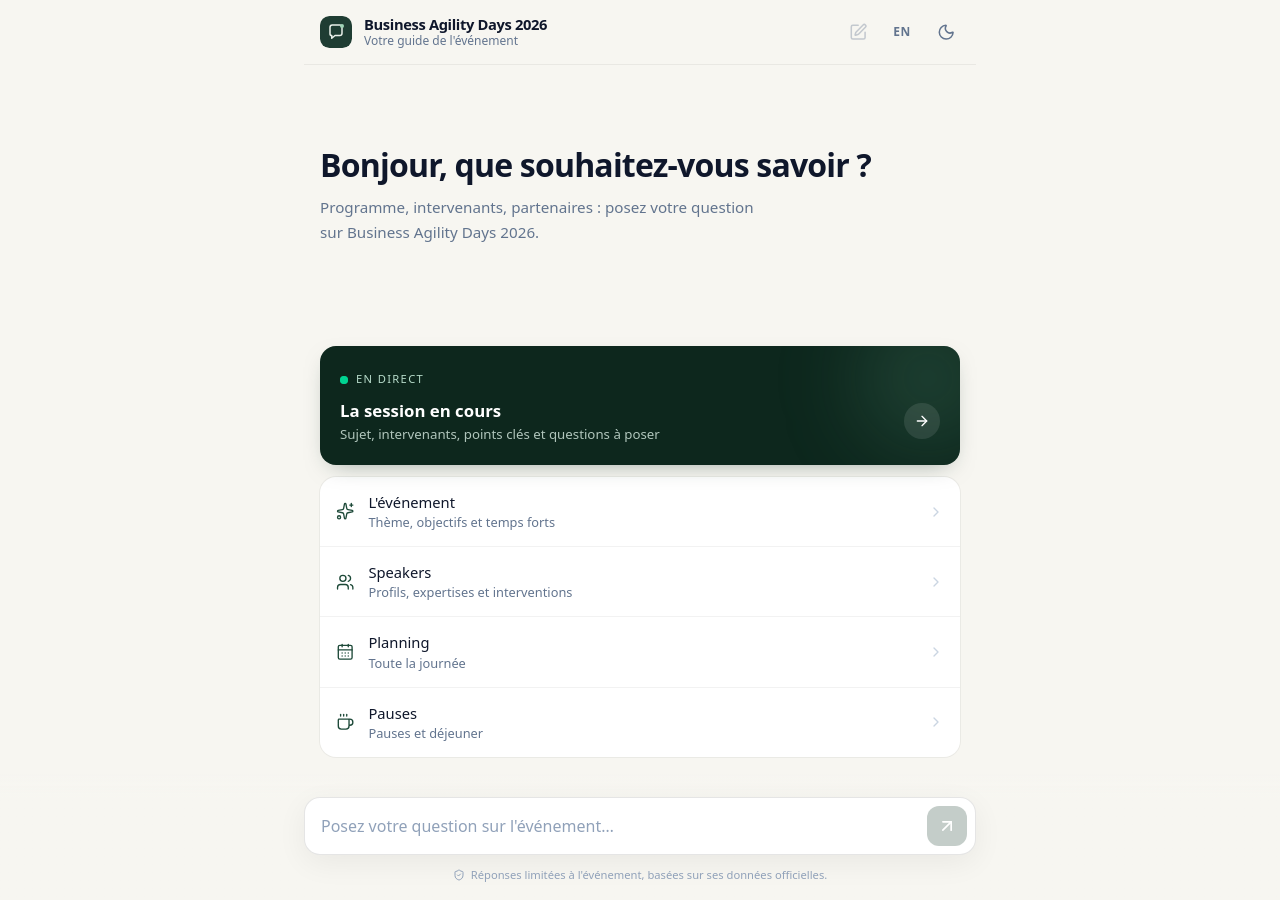
Test case: App › opens the speaker profile dialog and asks about the speaker
The image size is (1280, 900).
Click the button "Speakers Profils, expertises et interventions": coordinates (400, 572) [320,547,960,616]
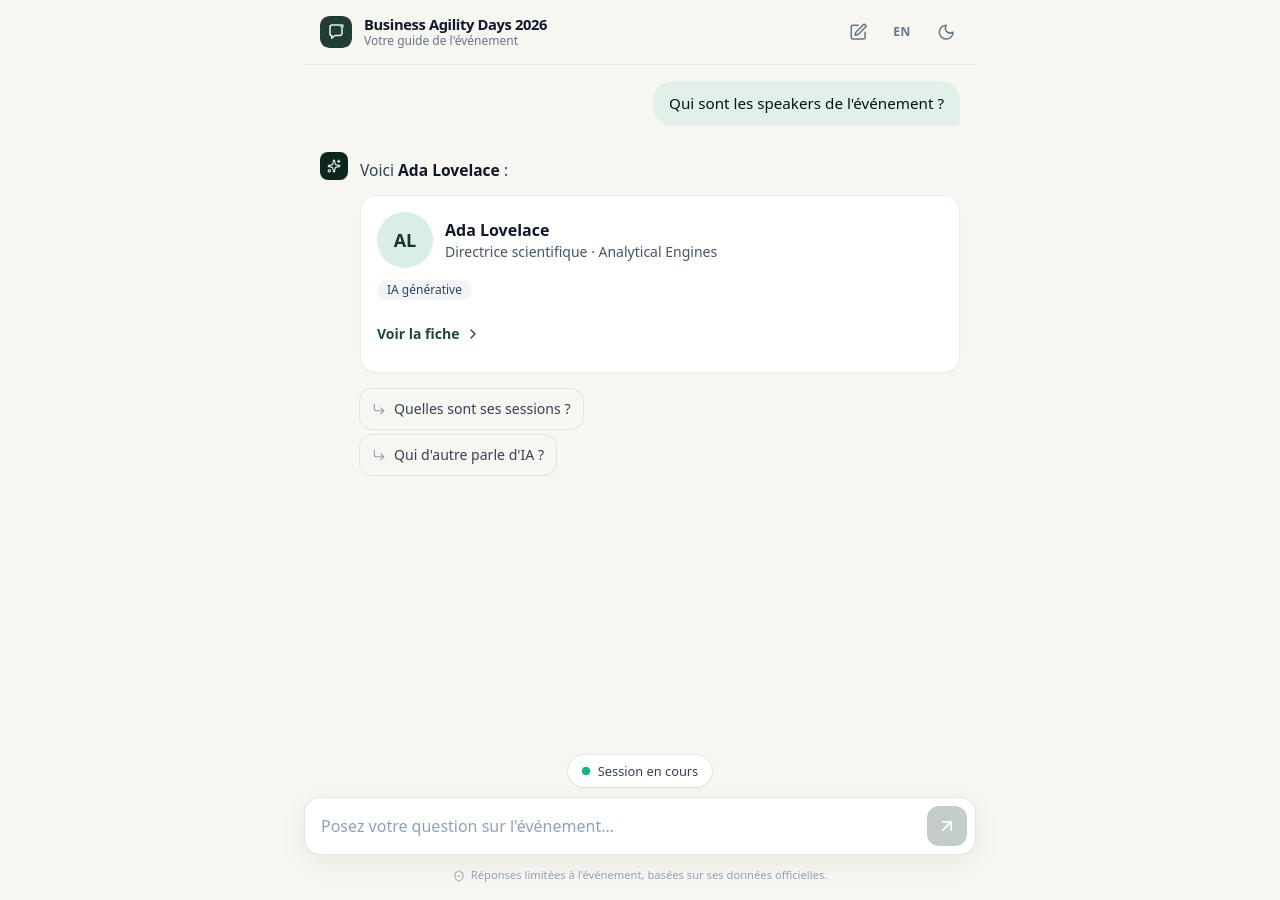
Click the button with aria-label "Voir la fiche de Ada Lovelace": coordinates (429, 334) [365,312,494,356]
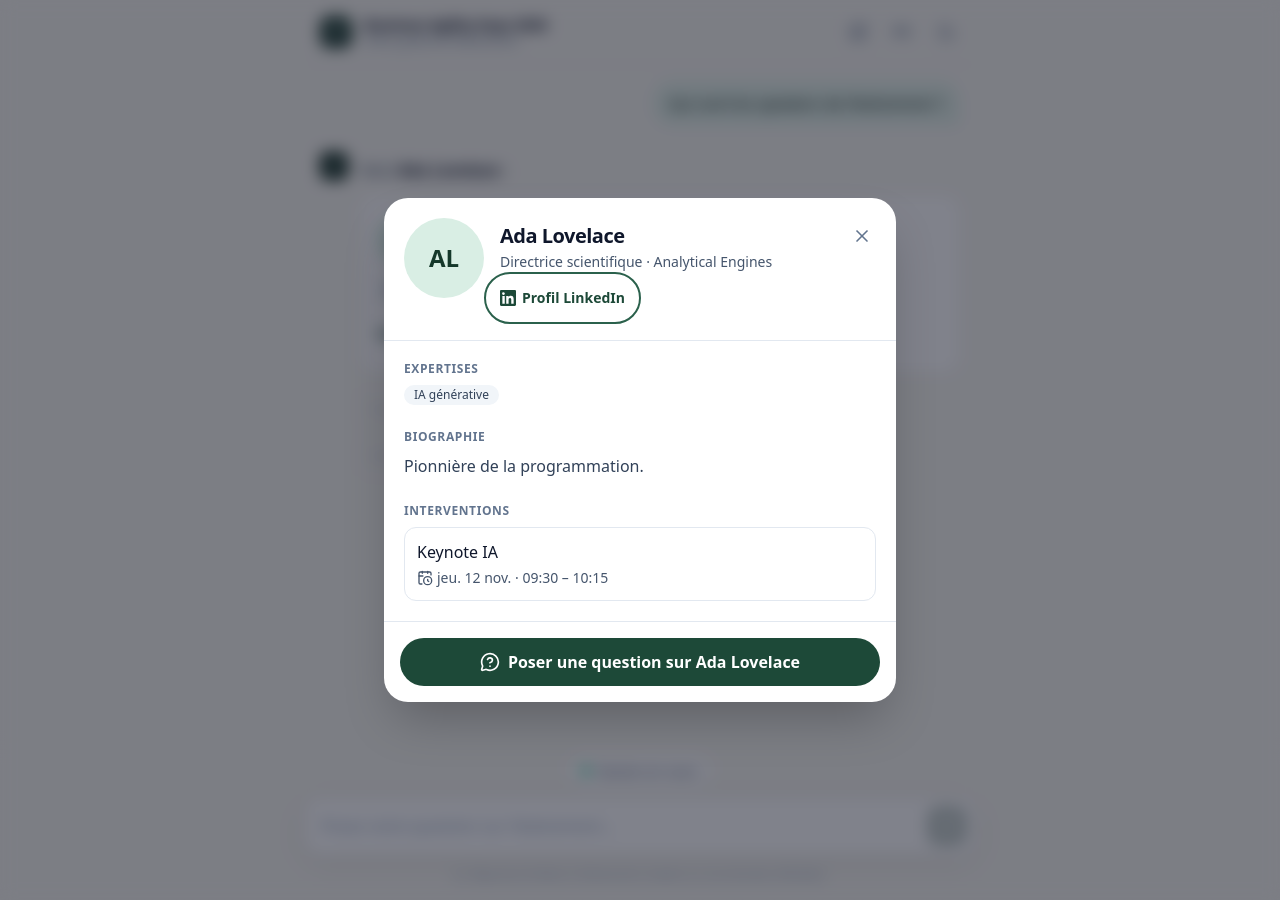
Check: the text "Pionnière de la programmation." is shown, box [404,455,644,477]
Click the button "Poser une question sur Ada Lovelace": coordinates (640, 662) [400,638,880,686]
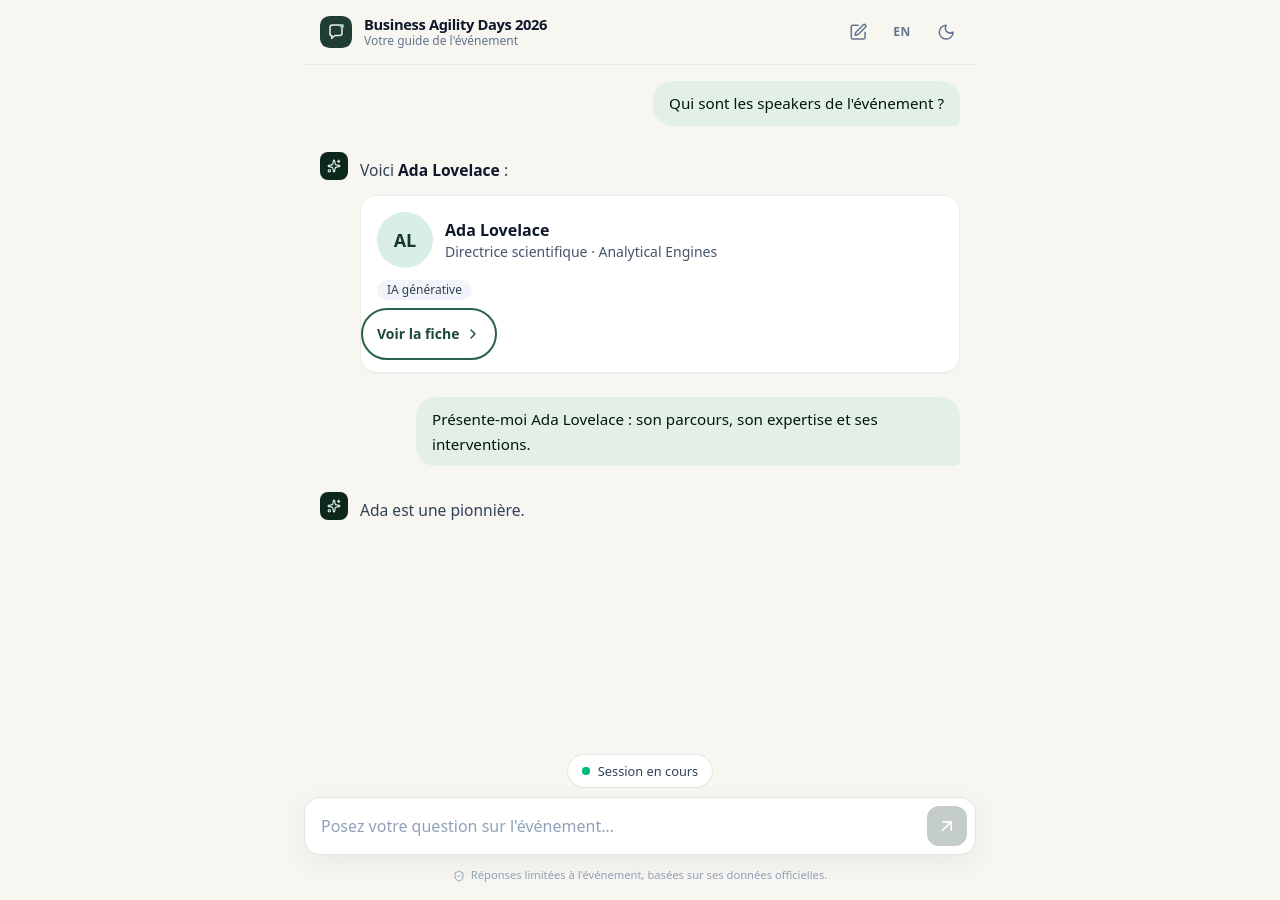
Check: the text "Ada est une pionnière." is shown, box [360,499,525,521]
